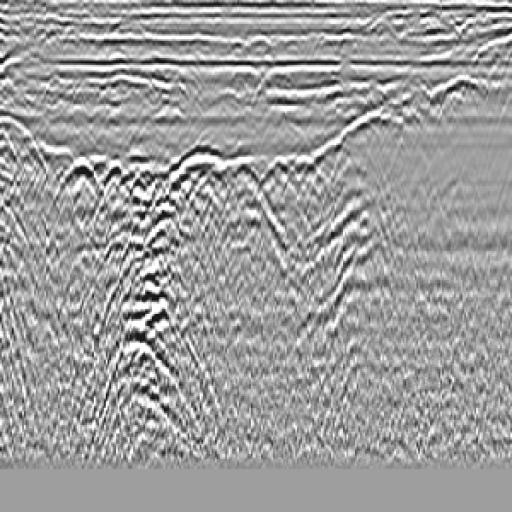metalic: (200, 125, 296, 282)
